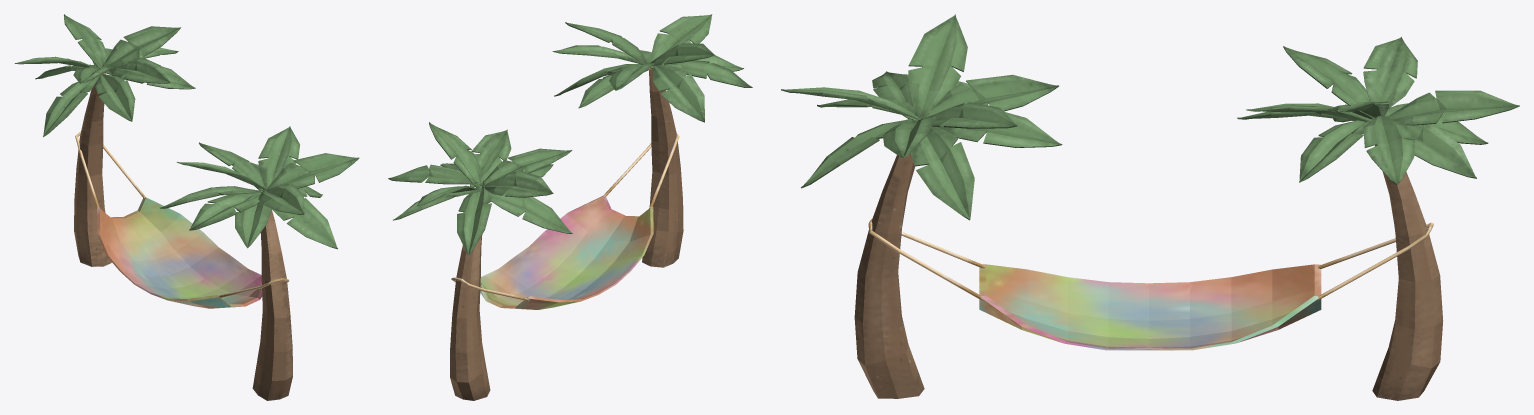
The model's file is Hamaca_para_texturizar.obj.
The picture shows the model from 3 angles, left to right: view 1: azimuth 30°, elevation 25°; view 2: azimuth 150°, elevation 25°; view 3: azimuth 270°, elevation 25°; orthographic projection. The views are drawn at different scales.
Visible parts, largest first — view 1: Plane, Cube_Material, Cube.001_Material.001, Plane.003, Plane.018, Plane.001, Plane.006, Plane.011, Plane.014, Plane.013, Plane.007, Plane.004 (+9 smaller); view 2: Plane, Cube_Material, Cube.001_Material.001, Plane.008, Plane.017, Plane.004, Plane.013, Plane.020, Plane.018, Plane.022, Plane.021, Plane.012 (+11 smaller); view 3: Plane, Cube_Material, Cube.001_Material.001, Plane.005, Plane.010, Plane.019, Plane.002, Plane.020, Plane.012, Plane.016, Plane.015, Plane.009 (+11 smaller).
Boxes of the visible parts, x1=… form: Plane: x1=97, y1=197, x2=262, y2=308; Cube_Material: x1=252, y1=210, x2=292, y2=400; Cube.001_Material.001: x1=74, y1=73, x2=111, y2=266; Plane.003: x1=267, y1=153, x2=359, y2=189; Plane.018: x1=102, y1=26, x2=180, y2=69; Plane.001: x1=258, y1=126, x2=299, y2=188; Plane.006: x1=266, y1=189, x2=337, y2=249; Plane.011: x1=189, y1=193, x2=260, y2=230; Plane.014: x1=95, y1=74, x2=135, y2=121; Plane.013: x1=43, y1=75, x2=99, y2=137; Plane.007: x1=235, y1=186, x2=271, y2=248; Plane.004: x1=258, y1=184, x2=304, y2=214; Plane: x1=480, y1=195, x2=653, y2=309; Cube_Material: x1=642, y1=68, x2=683, y2=267; Cube.001_Material.001: x1=450, y1=235, x2=490, y2=400; Plane.008: x1=652, y1=65, x2=704, y2=122; Plane.017: x1=457, y1=180, x2=491, y2=255; Plane.004: x1=649, y1=14, x2=712, y2=63; Plane.013: x1=490, y1=190, x2=572, y2=233; Plane.020: x1=483, y1=170, x2=553, y2=197; Plane.018: x1=429, y1=122, x2=481, y2=188; Plane.022: x1=484, y1=148, x2=572, y2=184; Plane.021: x1=470, y1=129, x2=511, y2=187; Plane.012: x1=388, y1=164, x2=478, y2=184; Plane: x1=979, y1=264, x2=1321, y2=350; Cube_Material: x1=854, y1=153, x2=924, y2=398; Cube.001_Material.001: x1=1372, y1=145, x2=1443, y2=400; Plane.005: x1=908, y1=14, x2=967, y2=119; Plane.010: x1=911, y1=118, x2=974, y2=220; Plane.019: x1=1387, y1=90, x2=1519, y2=125; Plane.002: x1=927, y1=74, x2=1058, y2=116; Plane.020: x1=1363, y1=37, x2=1417, y2=108; Plane.012: x1=1363, y1=115, x2=1415, y2=184; Plane.016: x1=1386, y1=116, x2=1476, y2=178; Plane.015: x1=1299, y1=118, x2=1373, y2=182; Plane.009: x1=938, y1=112, x2=1062, y2=147.
Size of the model in its own units: 8.13 by 10.31 by 21.08.
Materials: 2 (2 with a texture image).
